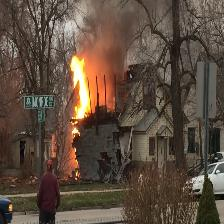fire: (68, 55, 94, 140)
smoke: (72, 1, 158, 105)
